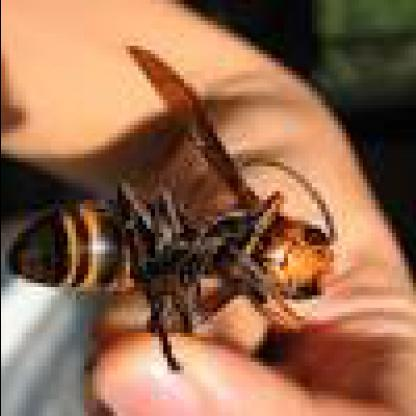asian: (21, 78, 358, 374)
